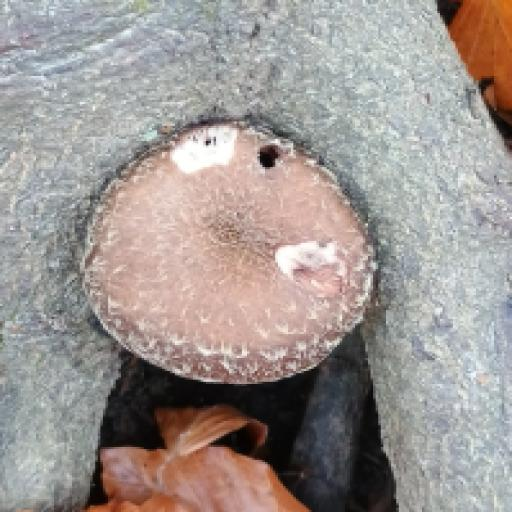Shiitake Mushroom: (58, 84, 414, 429)
